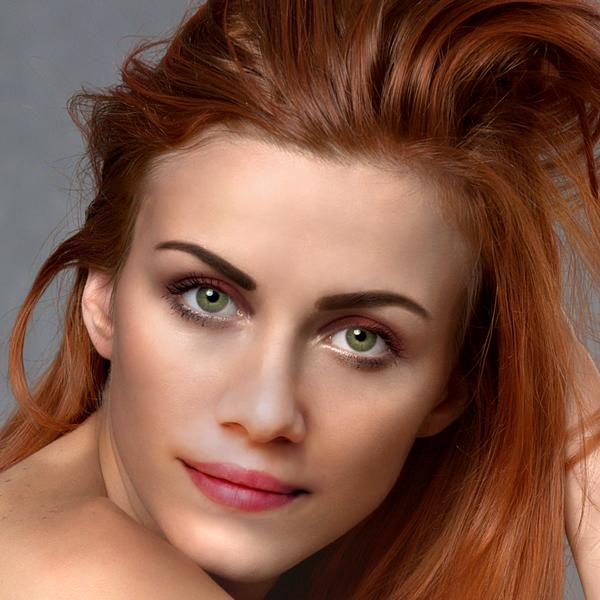Eyes: (160, 262, 252, 336), (310, 306, 408, 372)
